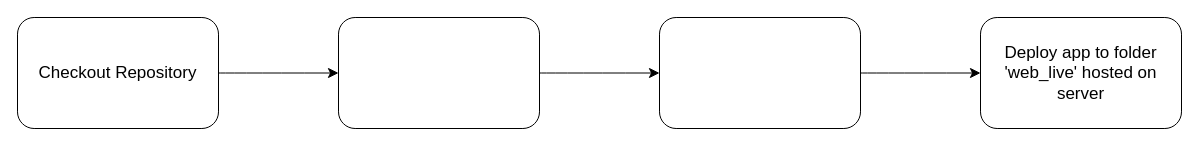
Image size: 1199x146. Some labels were removed from this diagram. The centre of each missing label's shape, as x and y in pixels:
"Build React app from 'web' folder in Repository" goes at point 439,72.
"Set up SSH connection with server" goes at point 759,72.
